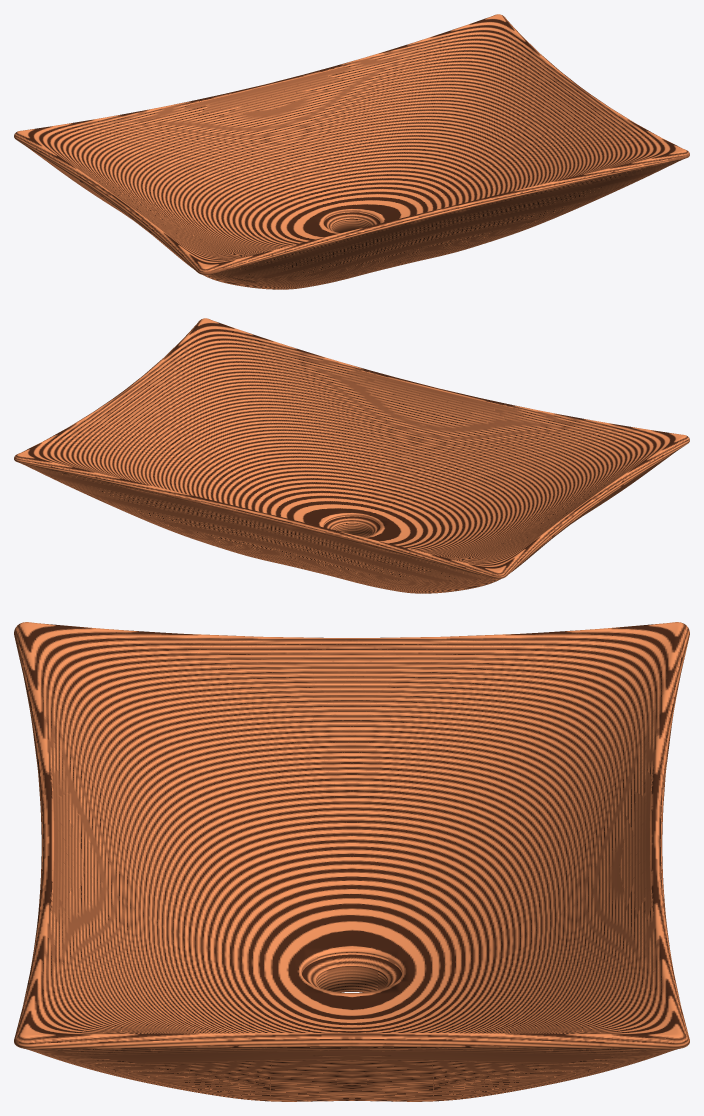
File: Заготовка2_1.glb
The picture shows the model from 3 angles, top to bottom: view 1: azimuth 30°, elevation 25°; view 2: azimuth 150°, elevation 25°; view 3: azimuth 270°, elevation 25°; orthographic projection. The views are drawn at different scales.
Parts seen in each view (by area): view 1: Заготовка3; view 2: Заготовка3; view 3: Заготовка3.
Part boxes in pixels (x1,y1,x2,y2): Заготовка3: [14, 14, 689, 289]; Заготовка3: [14, 318, 689, 593]; Заготовка3: [14, 622, 689, 1101].
Size of the model in its own units: 622 by 122 by 421.
Materials: 1 (1 with a texture image).
